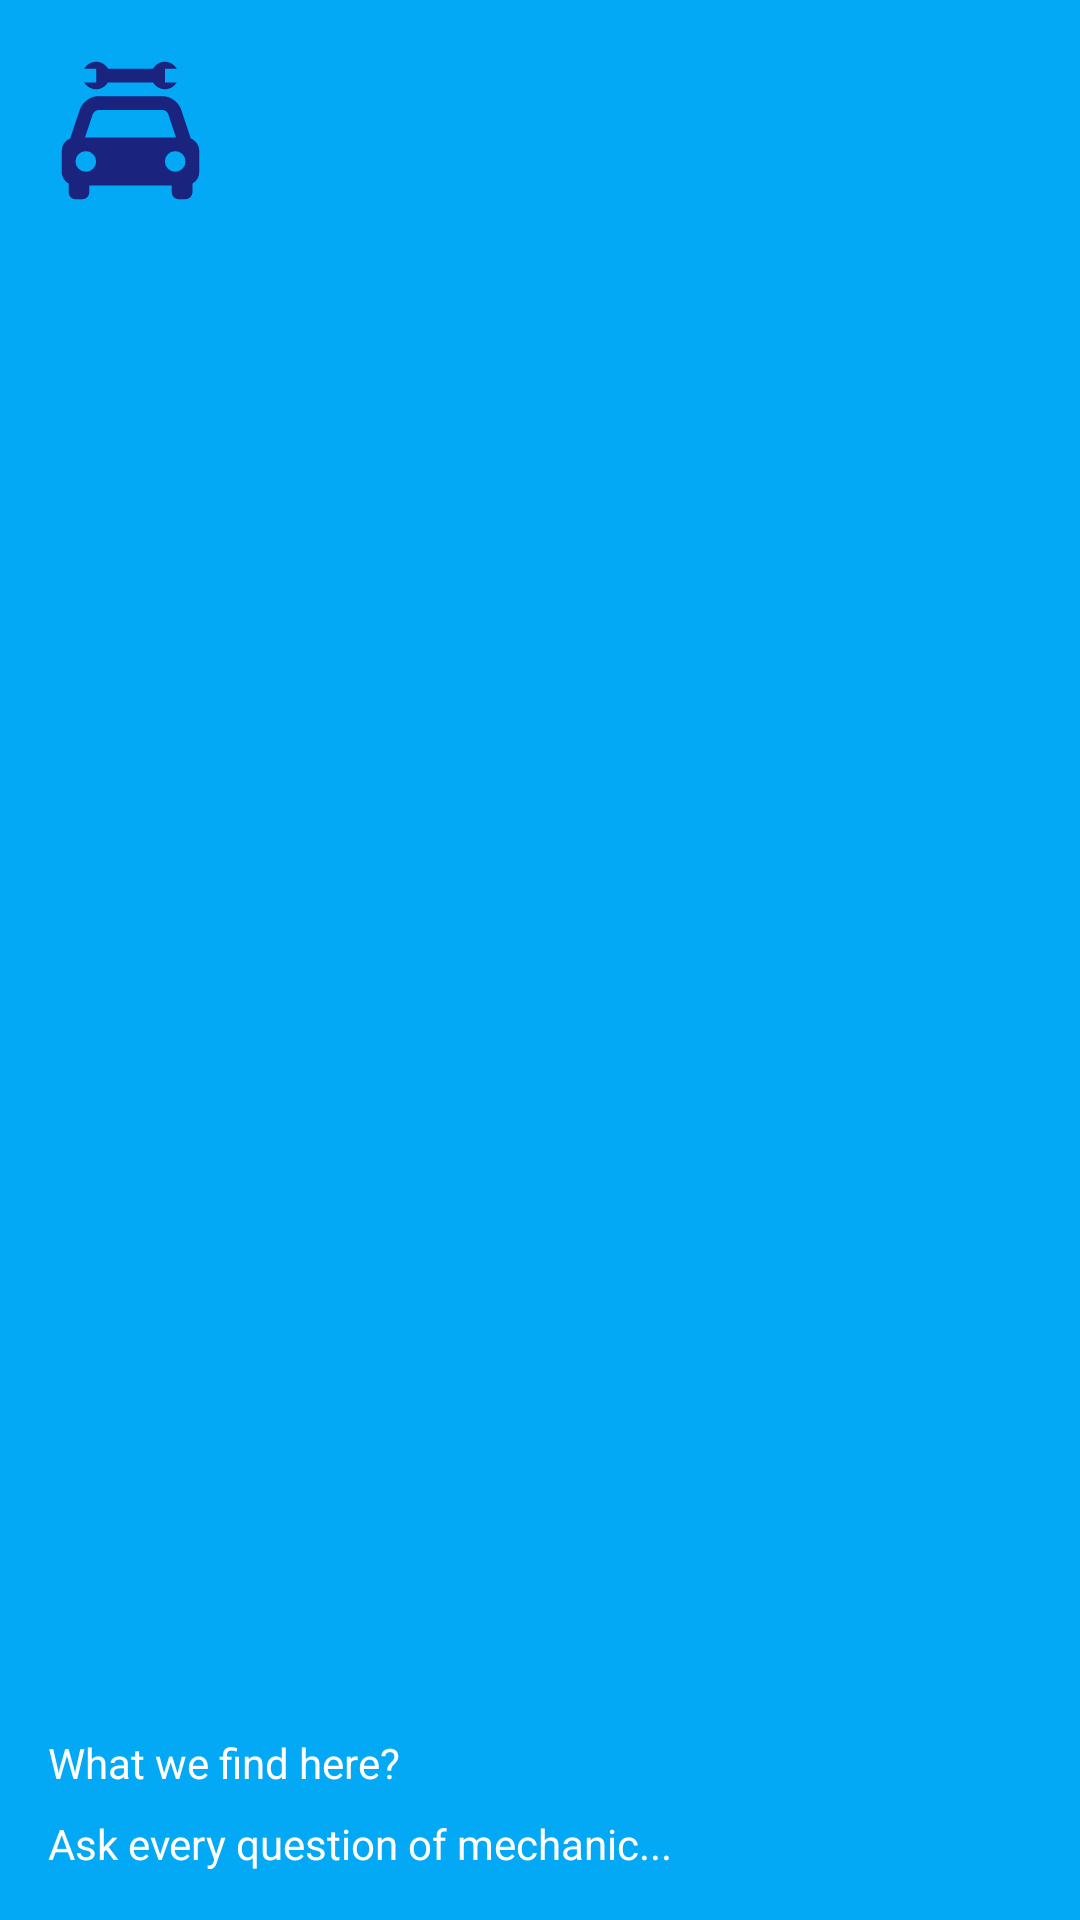

Where icons sit on this 1080x1920 app screen, as (x1, y1, x2, y2):
mech nav: (61, 61, 200, 200)
